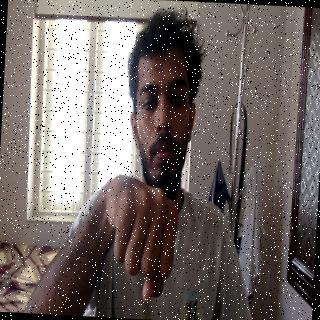Yes: (76, 149, 186, 308)
